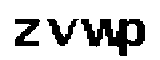p: (119, 14, 151, 59)
v: (44, 14, 78, 47)
w: (77, 13, 122, 52)
z: (11, 15, 43, 51)
